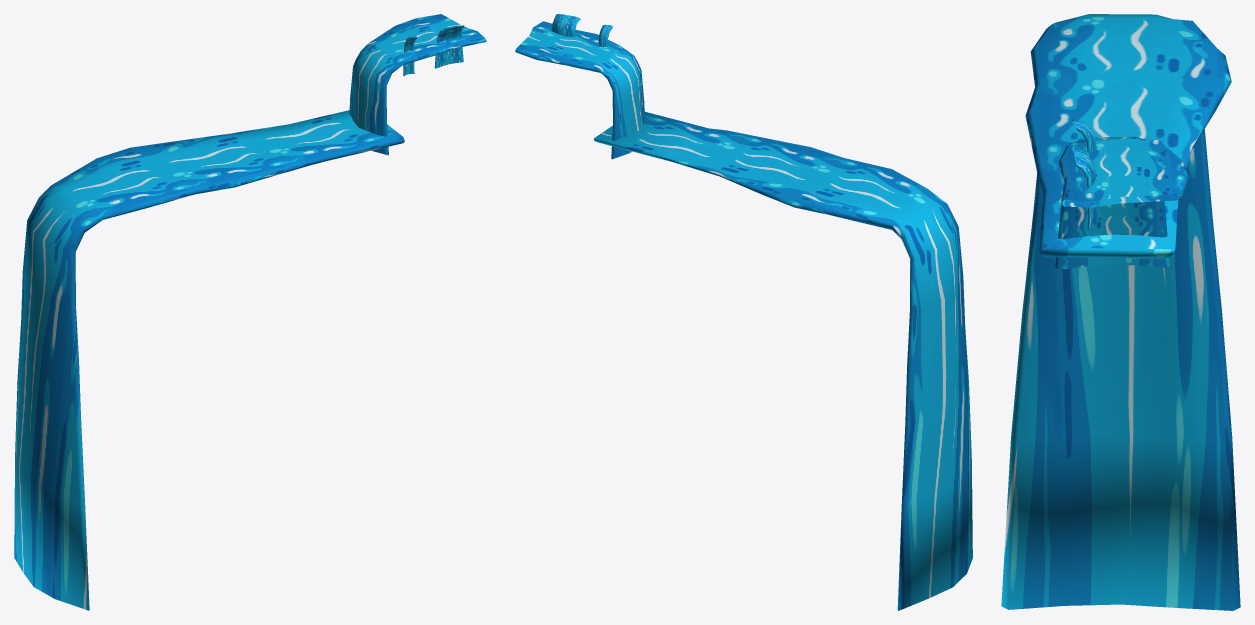
File: Riu002.FBX
The picture shows the model from 3 angles, left to right: view 1: azimuth 30°, elevation 25°; view 2: azimuth 150°, elevation 25°; view 3: azimuth 270°, elevation 25°; orthographic projection. The views are drawn at different scales.
Parts seen in each view (by area): view 1: River001, waterfall001, waterfall004; view 2: River001, waterfall001; view 3: River001, waterfall001, waterfall004, waterfall005.
Boxes of the visible parts, x1,y1,x2,y2 form: River001: (14,110,404,610); waterfall001: (349,14,486,155); waterfall004: (434,25,464,68); River001: (594,111,972,610); waterfall001: (515,21,644,159); River001: (1001,14,1240,610); waterfall001: (1055,136,1189,269); waterfall004: (1072,145,1099,229); waterfall005: (1072,119,1096,152).
Bounding box in the file's own units: 5864 × 6058 × 1734.
